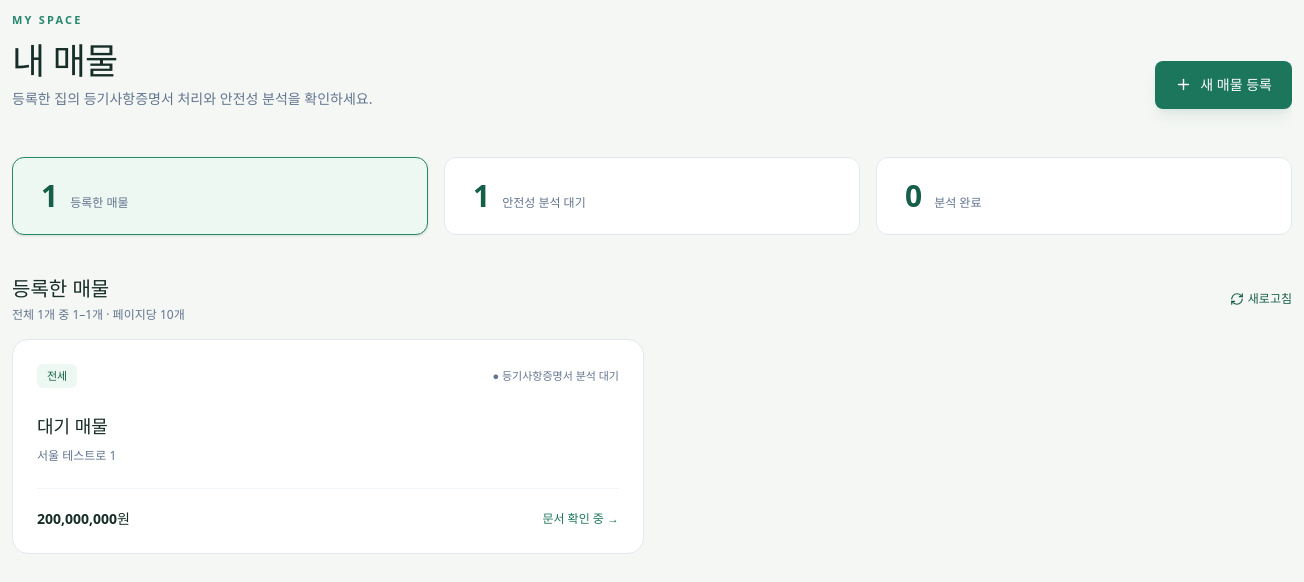
listing result badges › shows an empty filter message and returns to all listings
expect the heading "대기 매물" is shown: met, box [37, 414, 108, 438]
Click the button with aria-label "분석 완료 0개".
click(958, 202)  # box [876, 156, 1292, 234]
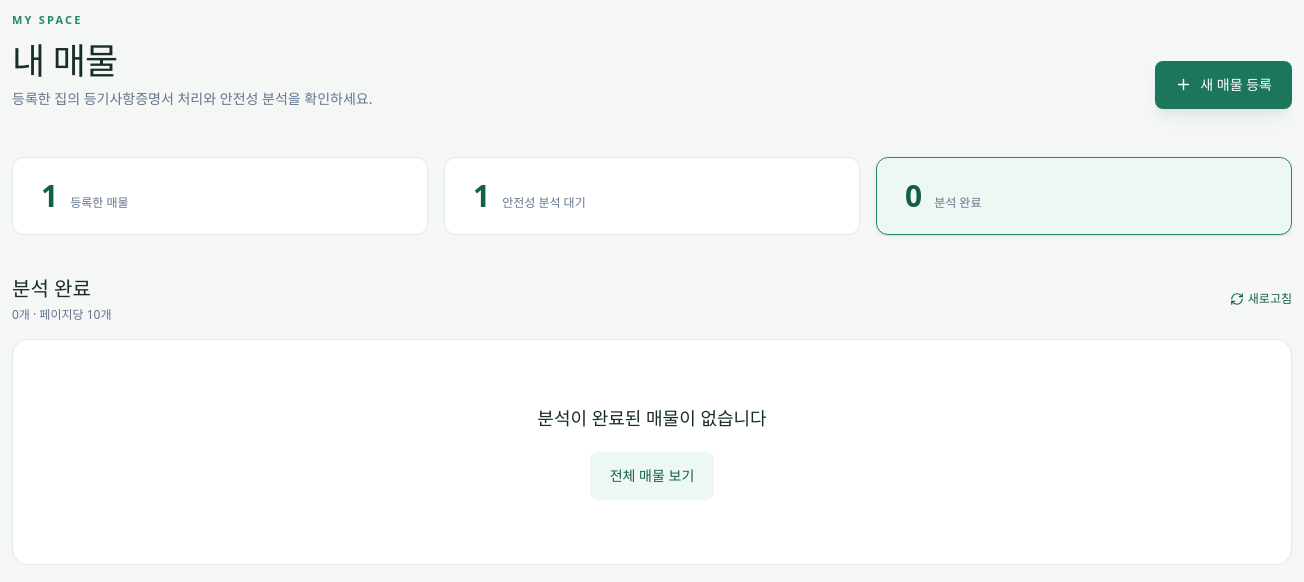
expect the heading "분석이 완료된 매물이 없습니다" is shown: met, box [537, 406, 767, 430]
Click the button "전체 매물 보기".
click(652, 476)  # box [590, 452, 714, 500]
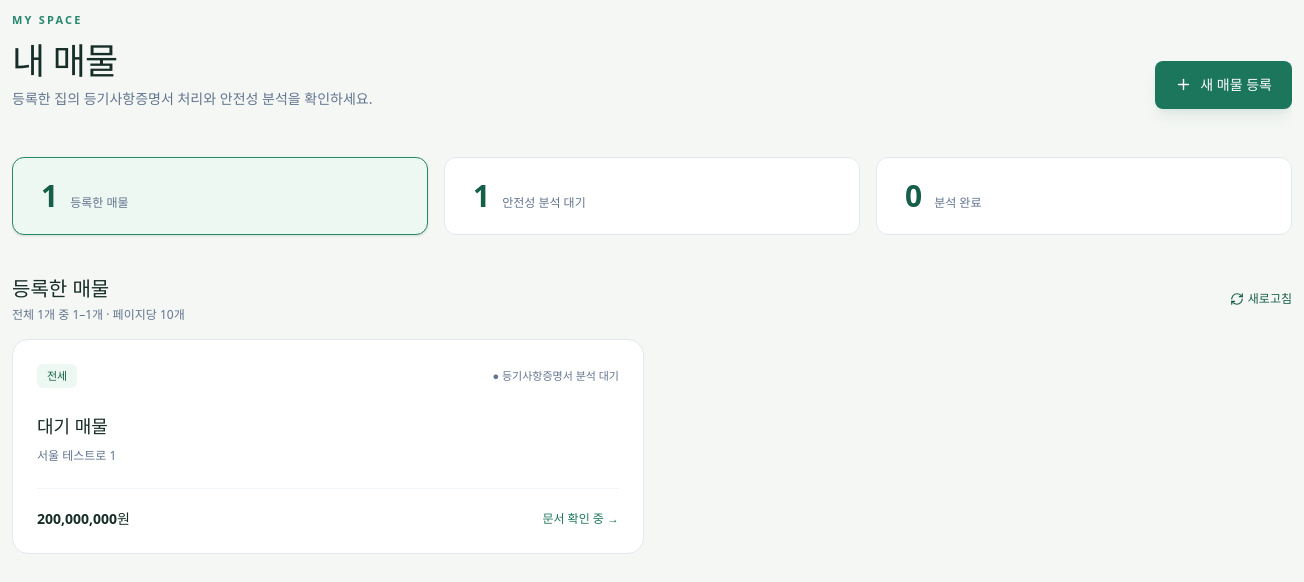
expect the heading "대기 매물" is shown: met, box [37, 414, 108, 438]
